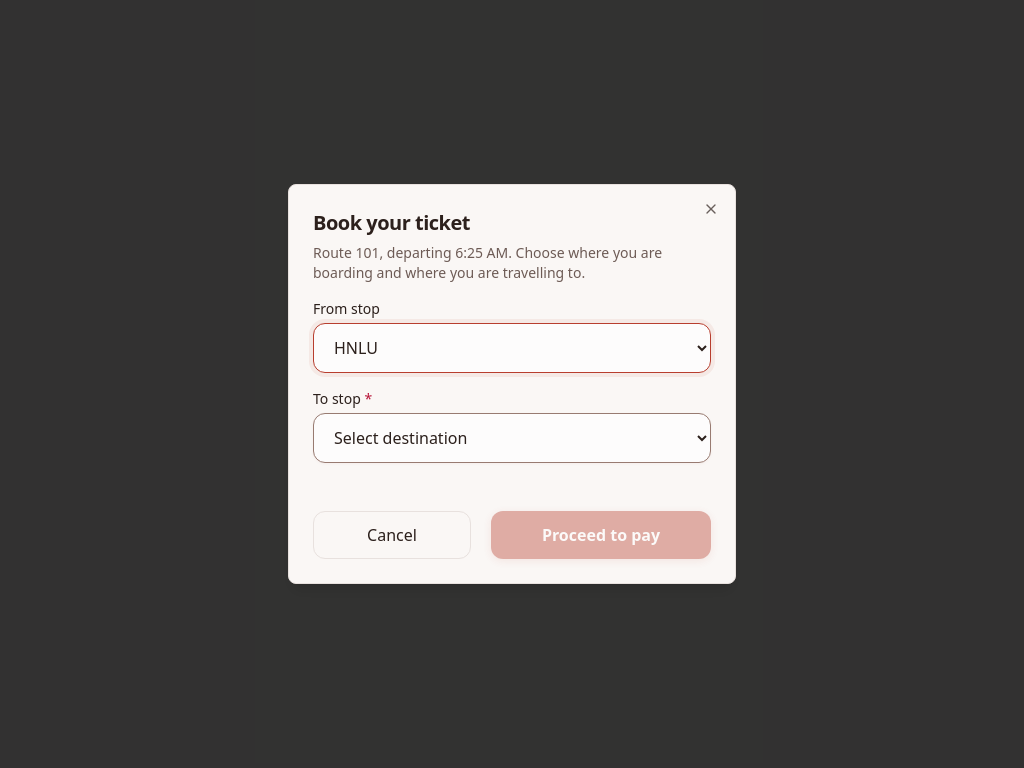
Test: proceeding to payment › refuses a bus that has already departed
Select "CBD" in the dropdown labelled "To stop *": (512,438) [313,413,711,463]
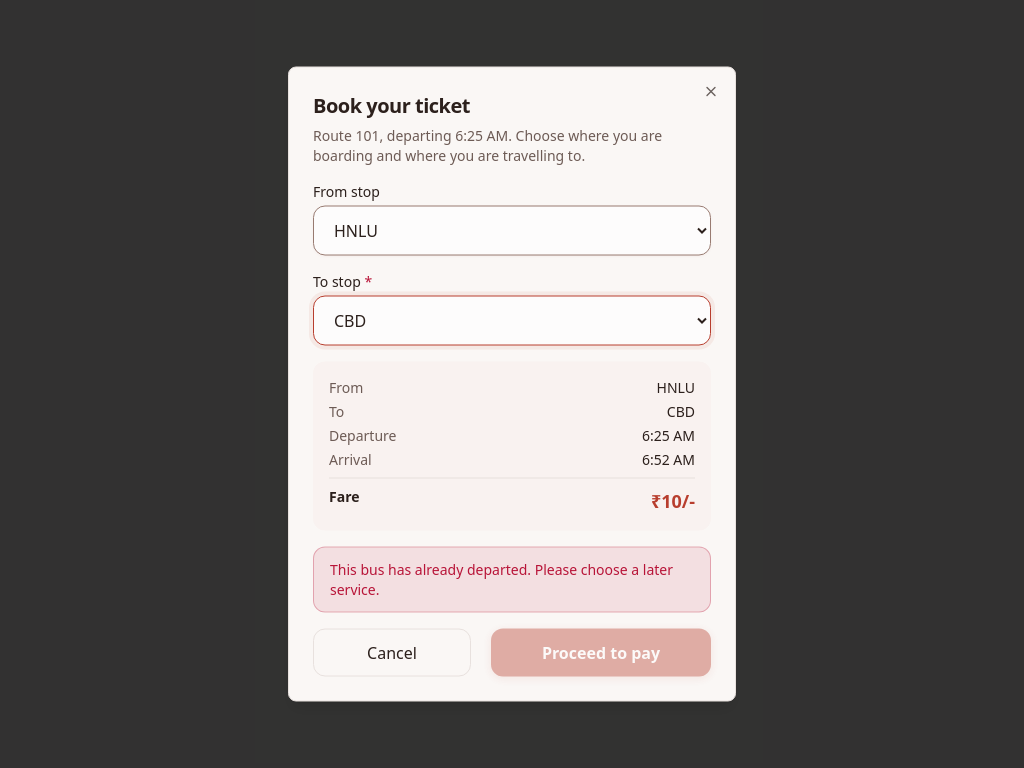
Check: the button "Proceed to pay" is disabled, box [491,628,711,676]
Check: the message shows "already departed", box [330,560,673,598]
